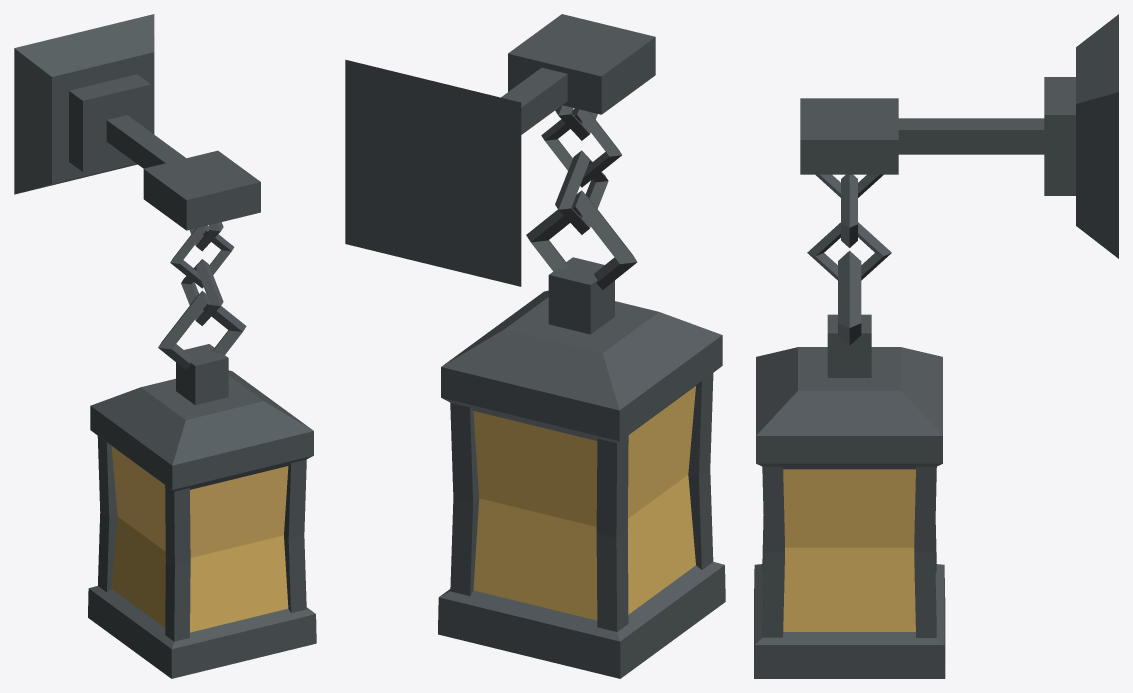
The model's file is Lantern_01.fbx.
3 renders of one model, left to right at view 1: azimuth 30°, elevation 25°; view 2: azimuth 150°, elevation 25°; view 3: azimuth 270°, elevation 25°, orthographic. The views are drawn at different scales.
Parts seen in each view (by area): view 1: Lantern_01; view 2: Lantern_01; view 3: Lantern_01.
Boxes of the visible parts, bbox=[...] form: Lantern_01: bbox=[14, 14, 316, 678]; Lantern_01: bbox=[345, 14, 725, 678]; Lantern_01: bbox=[754, 14, 1118, 678].
Bounding box in the file's own units: 0.1458 × 0.4928 × 0.2784.
